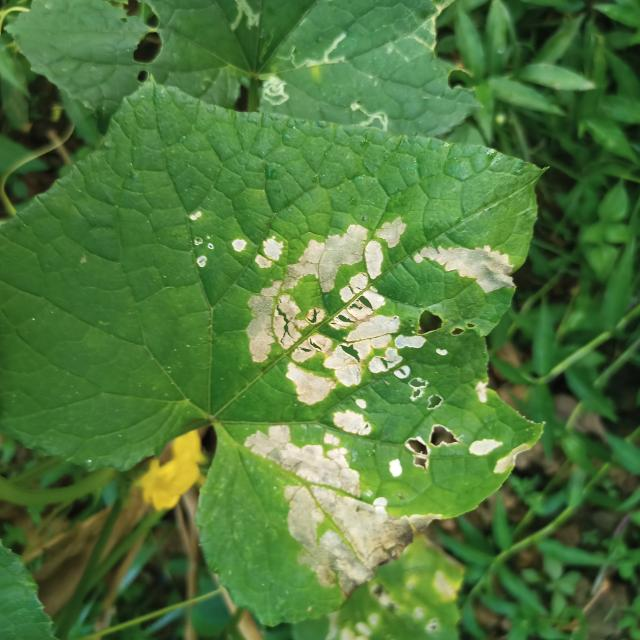disease_cucumber: (228, 216, 516, 406), (243, 408, 532, 590), (180, 206, 220, 278)
